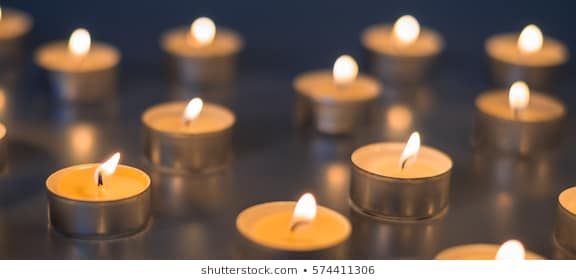Fire: (89, 145, 125, 186), (504, 77, 539, 117), (516, 18, 543, 64), (187, 12, 220, 47), (293, 188, 319, 232), (389, 14, 424, 45), (65, 23, 94, 60), (398, 128, 421, 170), (181, 96, 208, 127), (334, 54, 360, 86), (497, 238, 531, 261)
